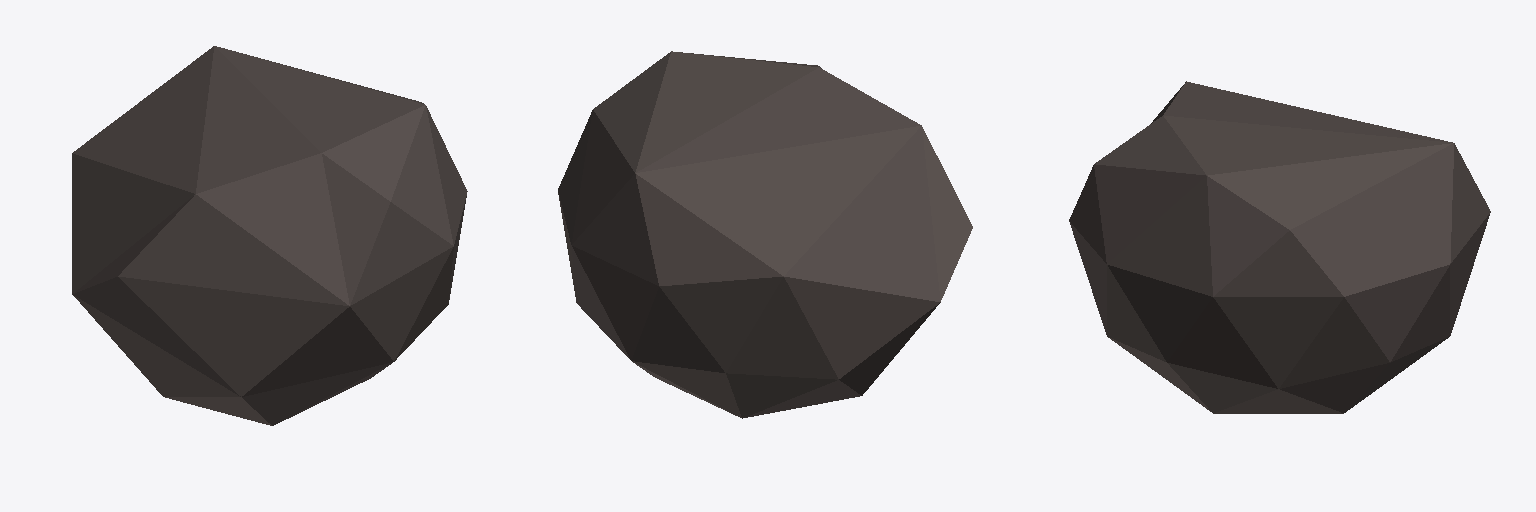
The model's file is roche.obj.
3 views of the same model, side by side, from view 1: azimuth 30°, elevation 25°; view 2: azimuth 150°, elevation 25°; view 3: azimuth 270°, elevation 25° (orthographic).
Parts seen in each view (by area): view 1: Icosphere; view 2: Icosphere; view 3: Icosphere.
Boxes of the visible parts, x1,y1,x2,y2 form: Icosphere: [72, 46, 467, 425]; Icosphere: [558, 51, 972, 418]; Icosphere: [1069, 81, 1490, 413].
Bounding box in the file's own units: 1.94 × 1.51 × 1.99.